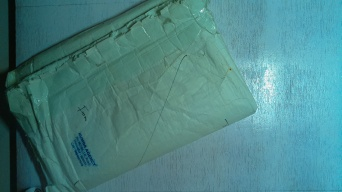l: (14, 1, 259, 191)
